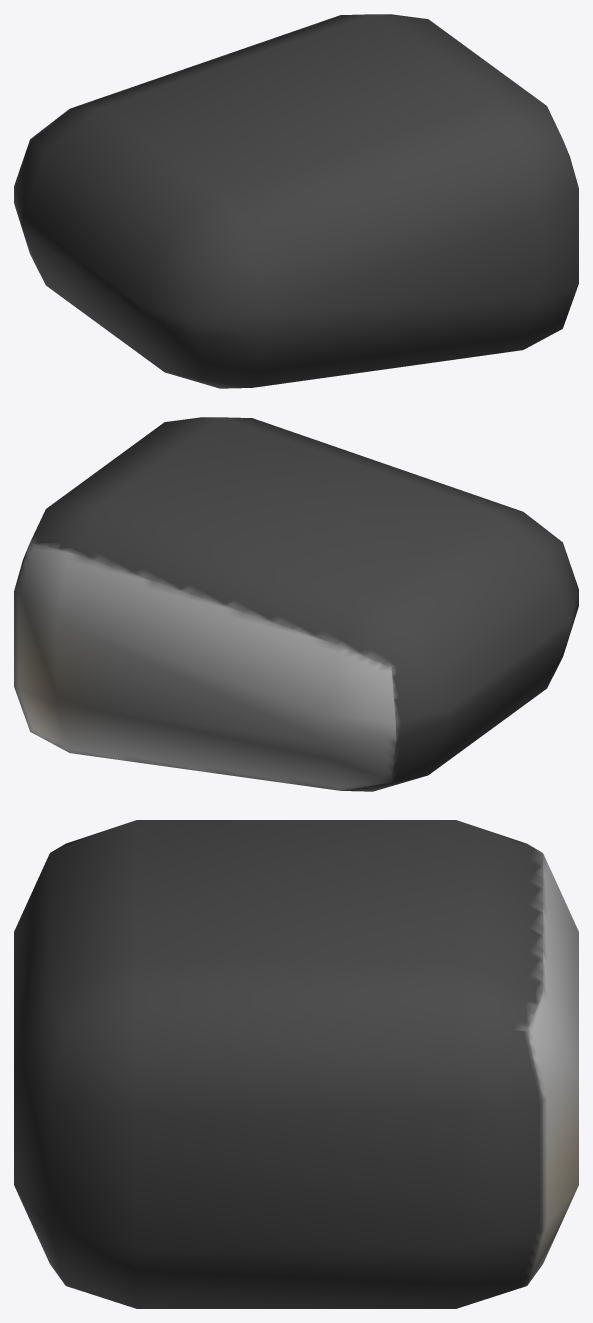
Rendered from block3.fbx.
3 views of the same model, one above another, from view 1: azimuth 30°, elevation 25°; view 2: azimuth 150°, elevation 25°; view 3: azimuth 270°, elevation 25° (orthographic). The views are drawn at different scales.
Parts seen in each view (by area): view 1: castle gate.002; view 2: castle gate.002; view 3: castle gate.002.
Part boxes in pixels (x1=…): castle gate.002: x1=14, y1=14, x2=578, y2=388; castle gate.002: x1=14, y1=417, x2=578, y2=791; castle gate.002: x1=14, y1=820, x2=578, y2=1308.
Size of the model in its own units: 67.58 by 37.65 by 57.36.
